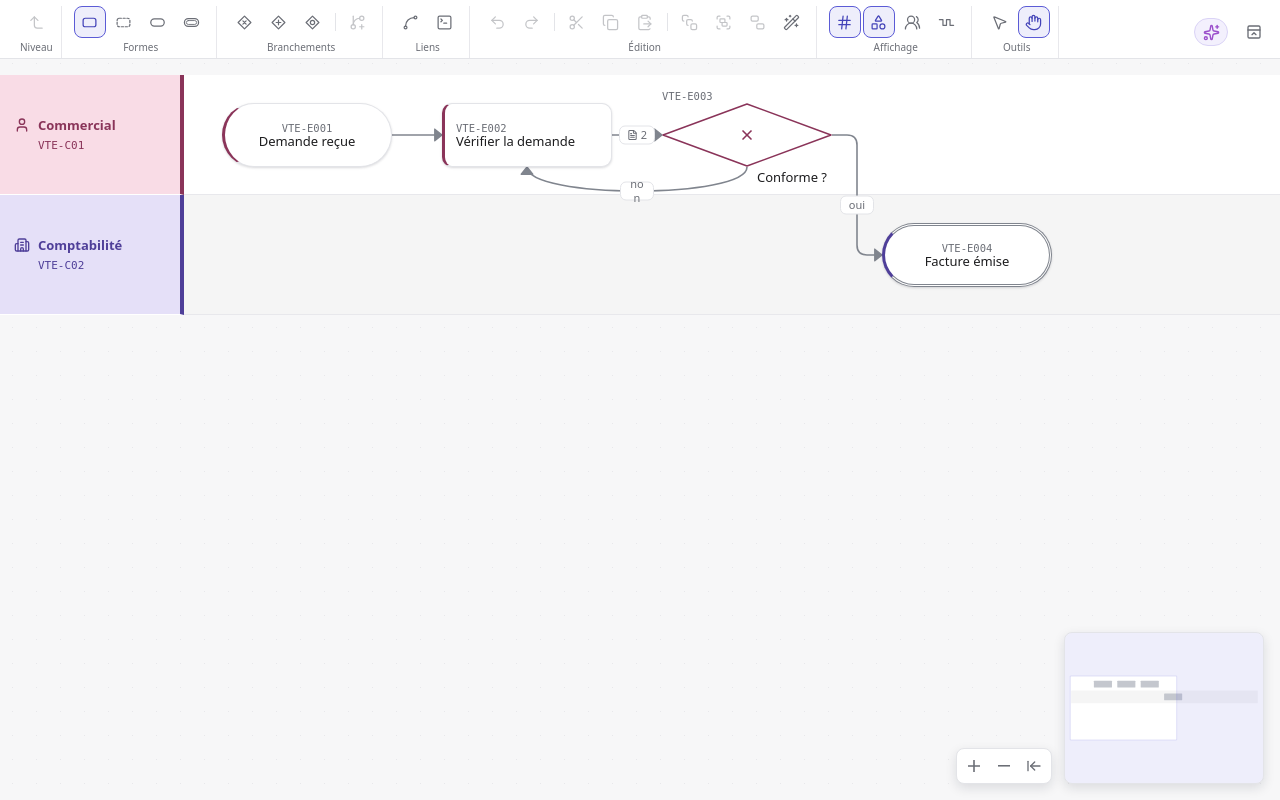
Test: a proposal on a map with content › puts a proposal aside with its marks
Click the button with test id "ribbon-assistant" at [1211, 32], box [1194,18,1228,46]
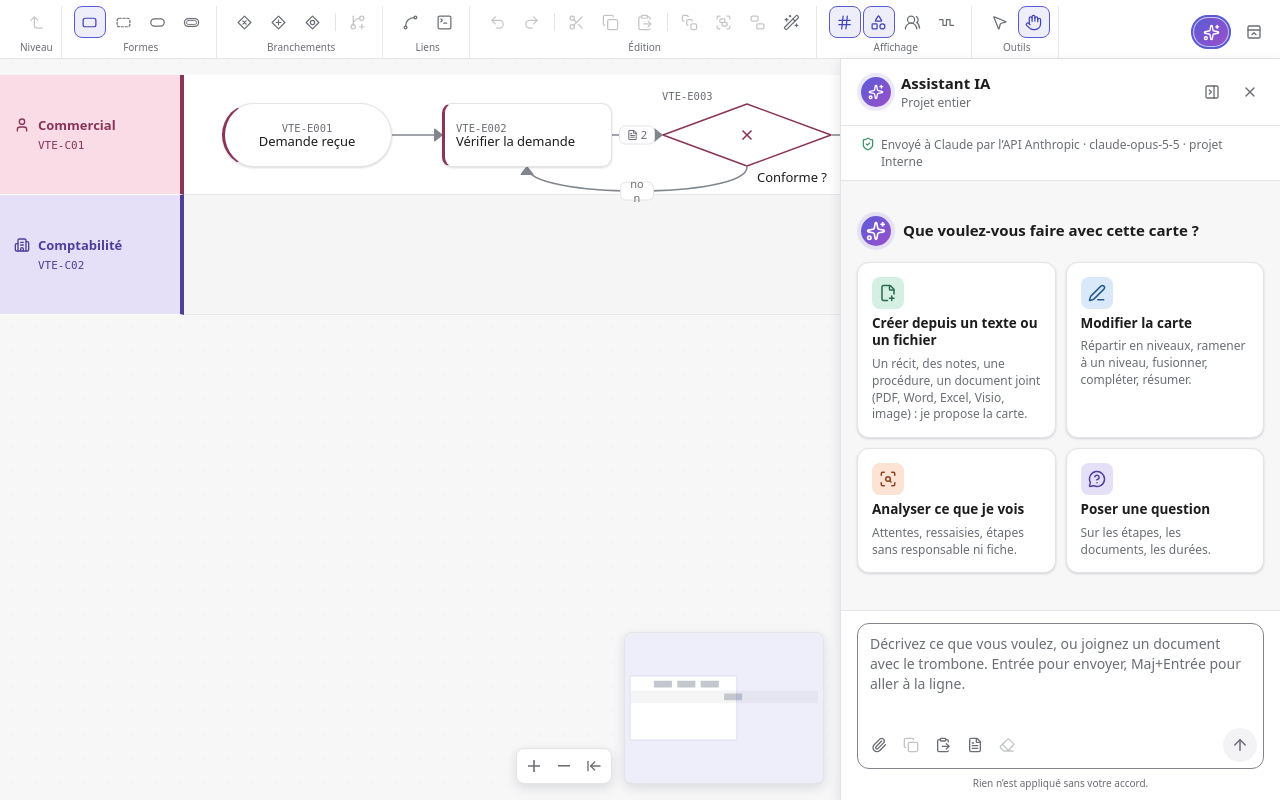
Type "Restructure la carte." into the text box with test id "assistant-field" at [1060, 674], box [858,624,1263,724]
Then press Enter
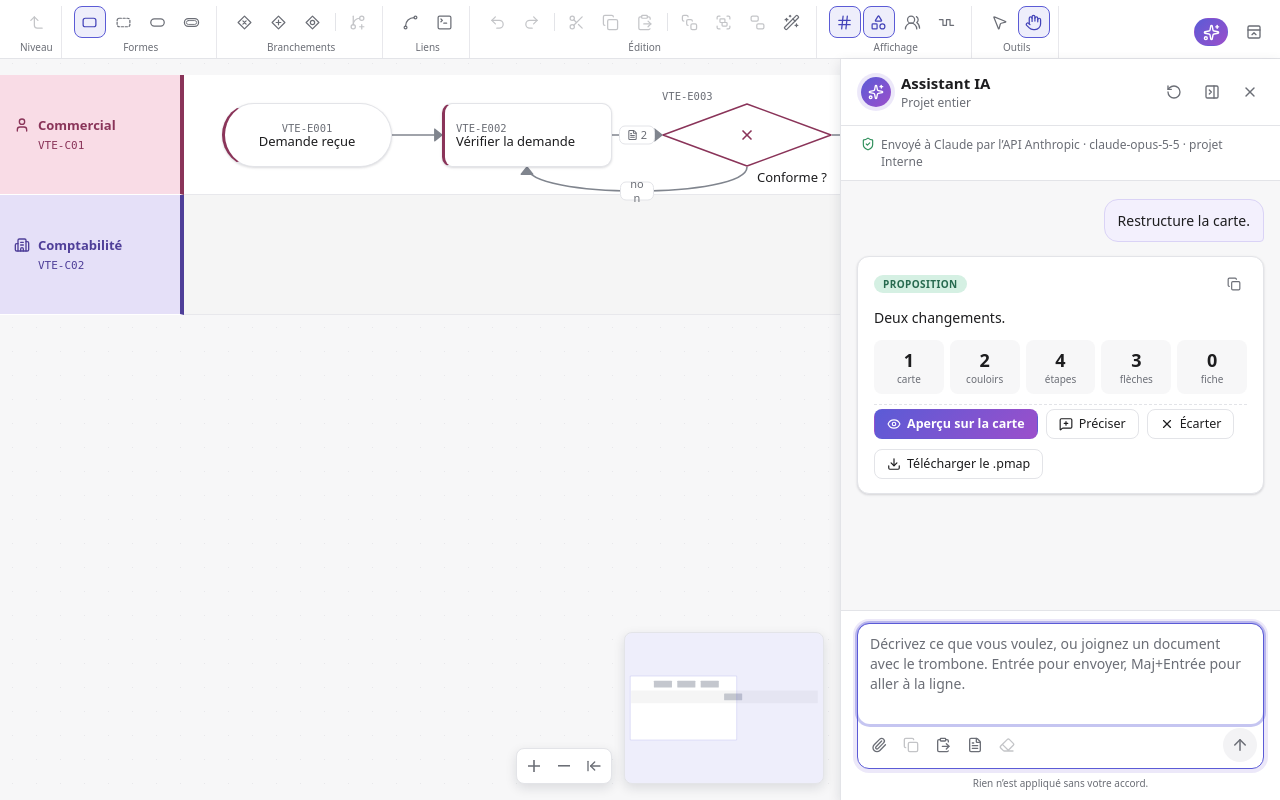
expect the element with test id "assistant-proposal" is shown: met, box [874,340,1247,479]
Click the button with test id "assistant-preview" at [956, 424], box [874,409,1038,439]
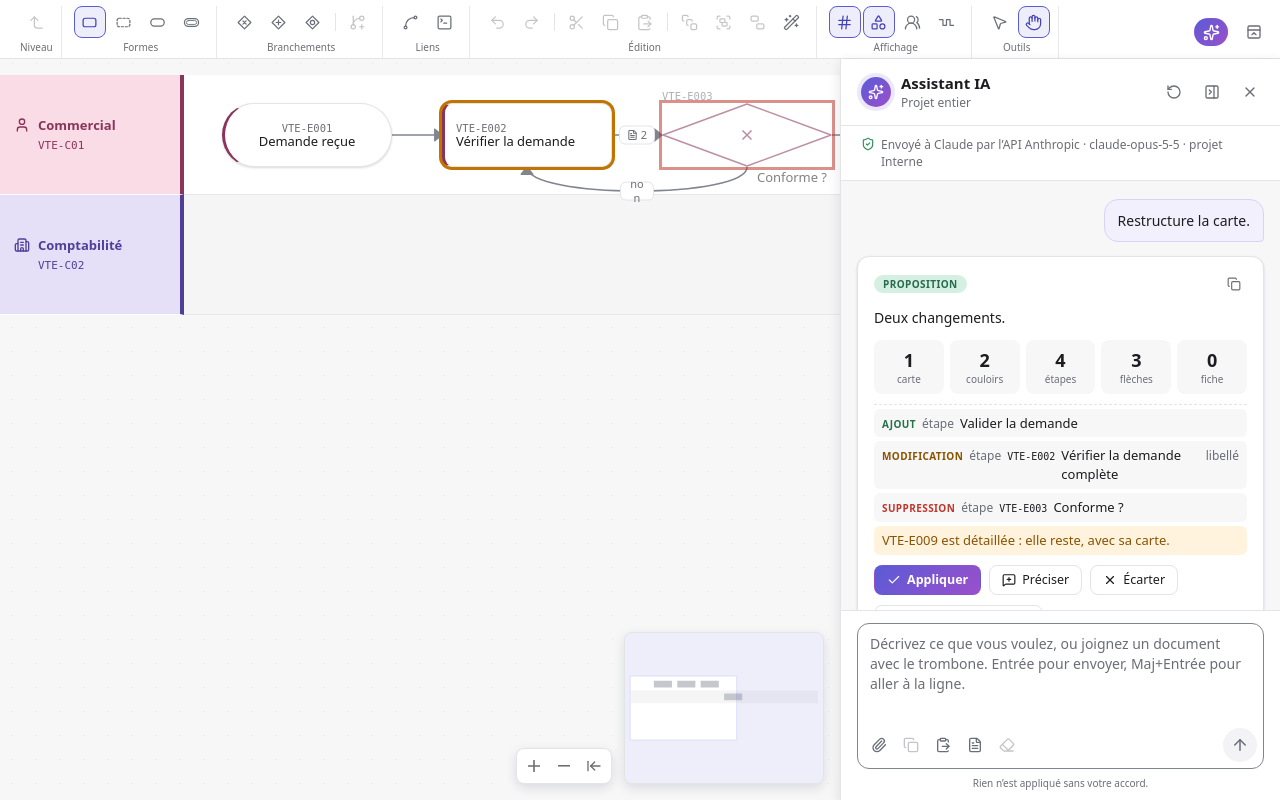
expect the list with test id "assistant-changes" is shown: met, box [874,409,1247,555]
Click the button with test id "assistant-dismiss" at [1134, 580], box [1090,565,1178,595]
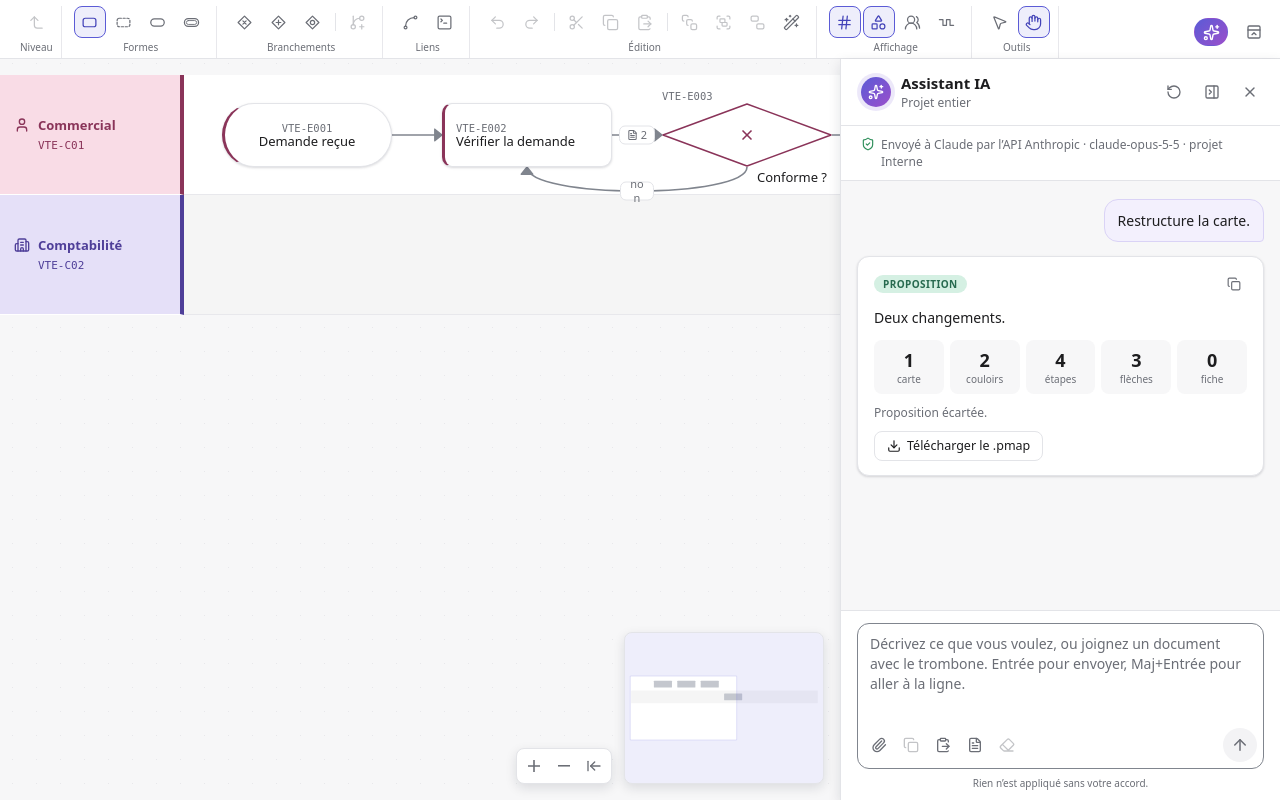
expect the text "Proposition écartée." is shown: met, box [874,404,987,421]
